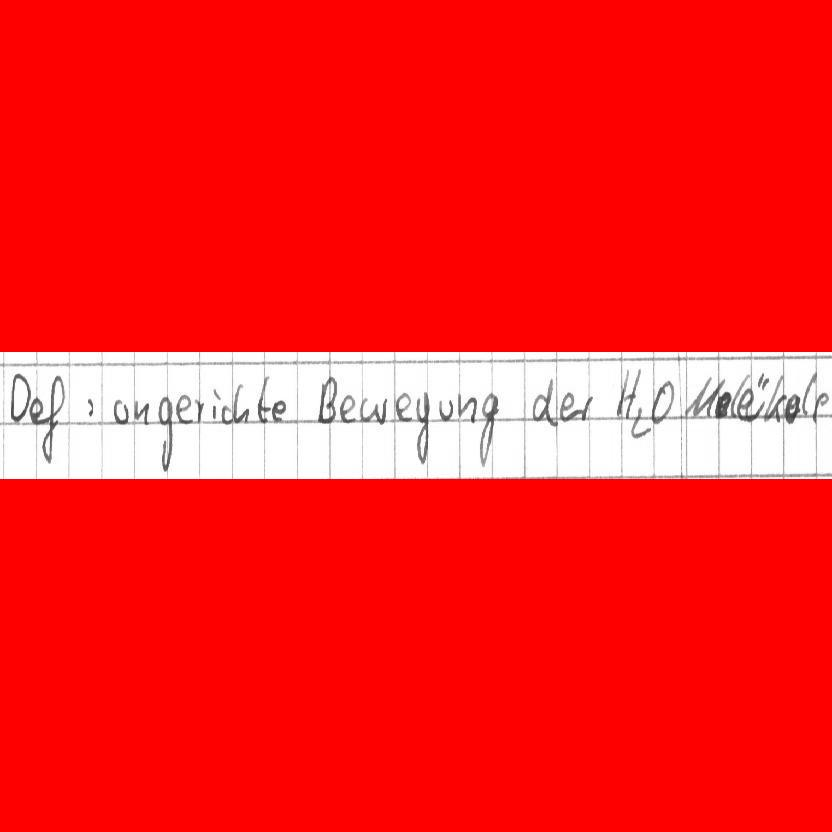Char: (38, 377, 64, 462), (477, 391, 499, 467), (683, 375, 716, 419), (156, 394, 173, 471), (413, 392, 431, 464), (615, 368, 641, 417), (531, 374, 557, 423), (649, 376, 674, 426), (7, 372, 30, 424), (316, 377, 337, 425), (762, 374, 782, 420), (362, 395, 389, 425), (232, 383, 250, 426), (630, 405, 650, 440), (255, 378, 270, 424), (802, 371, 817, 415), (175, 393, 194, 425), (713, 390, 733, 420), (337, 393, 356, 424), (29, 396, 49, 425), (736, 389, 755, 419), (558, 391, 576, 422), (458, 393, 477, 422), (394, 392, 411, 422), (578, 392, 595, 421), (111, 397, 129, 424), (785, 392, 801, 422), (132, 398, 151, 423), (813, 392, 830, 419), (271, 398, 288, 424), (439, 398, 455, 421), (195, 397, 208, 425), (82, 396, 97, 420), (212, 386, 220, 422), (221, 404, 232, 424)
